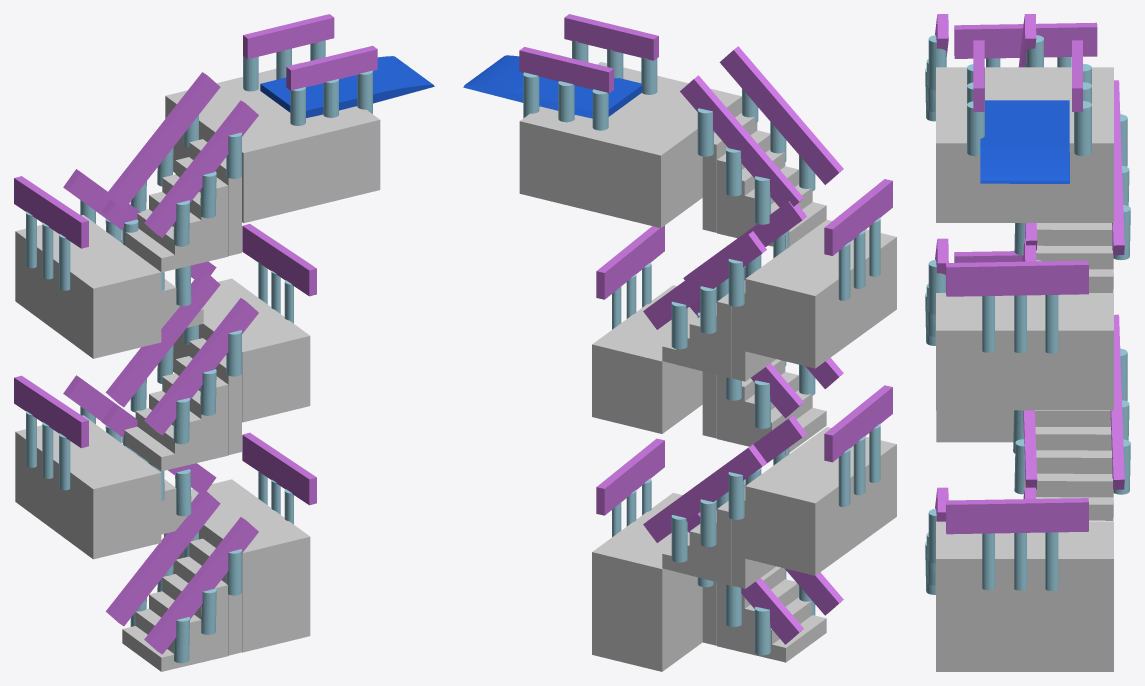
The model's file is pedestal.fbx.
3 views of the same model, side by side, from view 1: azimuth 30°, elevation 25°; view 2: azimuth 150°, elevation 25°; view 3: azimuth 270°, elevation 25° (orthographic). The views are drawn at different scales.
Parts seen in each view (by area): view 1: 立方体.049, 立方体.026, 立方体.036, 立方体, 立方体.027, 立方体.053, 立方体.062, 立方体.050, 立方体.054, 立方体.061, 立方体.057, 立方体.058 (+43 smaller); view 2: 立方体.049, 立方体.026, 立方体.036, 立方体, 立方体.027, 立方体.054, 立方体.050, 立方体.053, 立方体.060, 立方体.055, 立方体.051, 立方体.052 (+53 smaller); view 3: 立方体, 立方体.027, 立方体.049, 立方体.050, 立方体.065, 立方体.063, 立方体.066, 立方体.026, 立方体.023, 立方体.025, 立方体.024, 立方体.038 (+33 smaller).
Part boxes in pixels (bbox=[...]): 立方体.049: bbox=[165, 62, 380, 223]; 立方体.026: bbox=[15, 415, 161, 559]; 立方体.036: bbox=[15, 215, 161, 358]; 立方体: bbox=[164, 479, 310, 652]; 立方体.027: bbox=[173, 278, 310, 422]; 立方体.053: bbox=[106, 72, 220, 209]; 立方体.062: bbox=[106, 491, 220, 626]; 立方体.050: bbox=[260, 56, 434, 117]; 立方体.054: bbox=[144, 100, 258, 237]; 立方体.061: bbox=[144, 517, 258, 654]; 立方体.057: bbox=[144, 298, 258, 435]; 立方体.058: bbox=[106, 273, 220, 407]; 立方体.049: bbox=[519, 62, 741, 227]; 立方体.026: bbox=[745, 427, 896, 575]; 立方体.036: bbox=[745, 220, 896, 368]; 立方体: bbox=[592, 493, 702, 671]; 立方体.027: bbox=[592, 285, 702, 433]; 立方体.054: bbox=[719, 46, 843, 184]; 立方体.050: bbox=[463, 55, 642, 118]; 立方体.053: bbox=[680, 75, 803, 207]; 立方体.060: bbox=[643, 444, 766, 542]; 立方体.055: bbox=[643, 231, 766, 329]; 立方体.051: bbox=[564, 14, 658, 60]; 立方体.052: bbox=[519, 47, 613, 93]; 立方体: bbox=[936, 521, 1113, 671]; 立方体.027: bbox=[936, 293, 1113, 410]; 立方体.049: bbox=[936, 67, 1113, 222]; 立方体.050: bbox=[980, 100, 1069, 183]; 立方体.065: bbox=[946, 260, 1088, 296]; 立方体.063: bbox=[946, 498, 1088, 534]; 立方体.066: bbox=[954, 22, 1097, 58]; 立方体.026: bbox=[936, 410, 1013, 442]; 立方体.023: bbox=[1024, 473, 1113, 497]; 立方体.025: bbox=[1035, 427, 1111, 450]; 立方体.024: bbox=[1036, 450, 1112, 473]; 立方体.038: bbox=[1036, 223, 1112, 245].
Bounding box in the file's own units: 5467 × 7807 × 2309.
